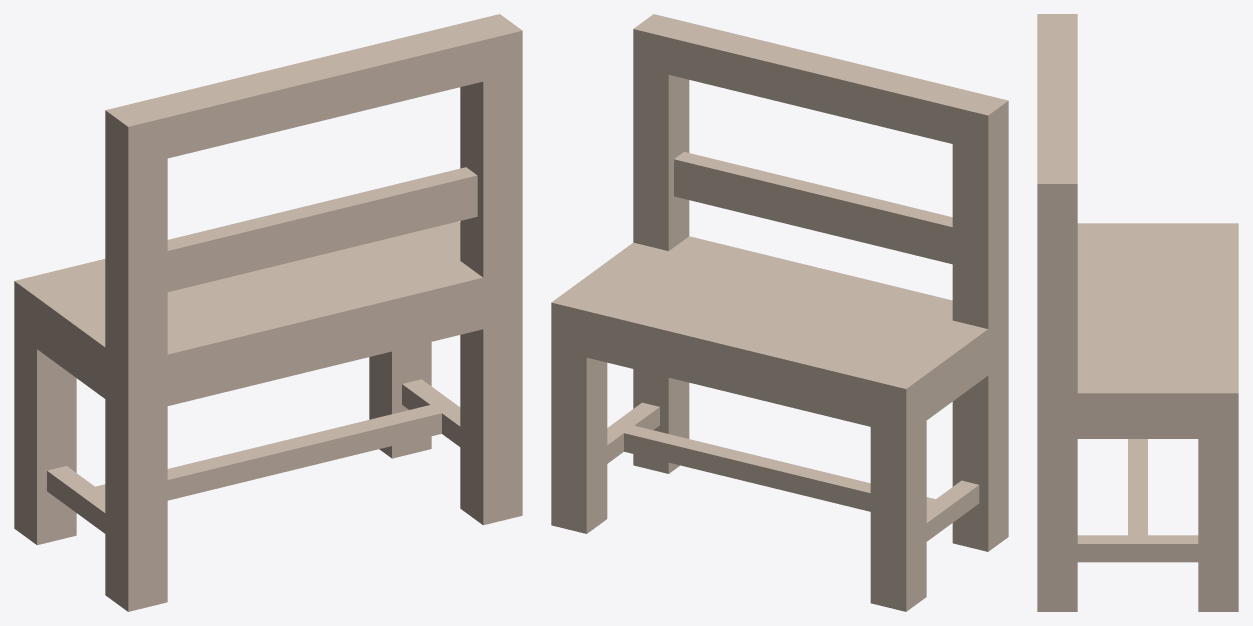
Rendered from furn_bench.glb.
The picture shows the model from 3 angles, left to right: view 1: azimuth 30°, elevation 25°; view 2: azimuth 150°, elevation 25°; view 3: azimuth 270°, elevation 25°; orthographic projection. The views are drawn at different scales.
Size of the model in its own units: 0.8 by 0.94 by 0.4.
